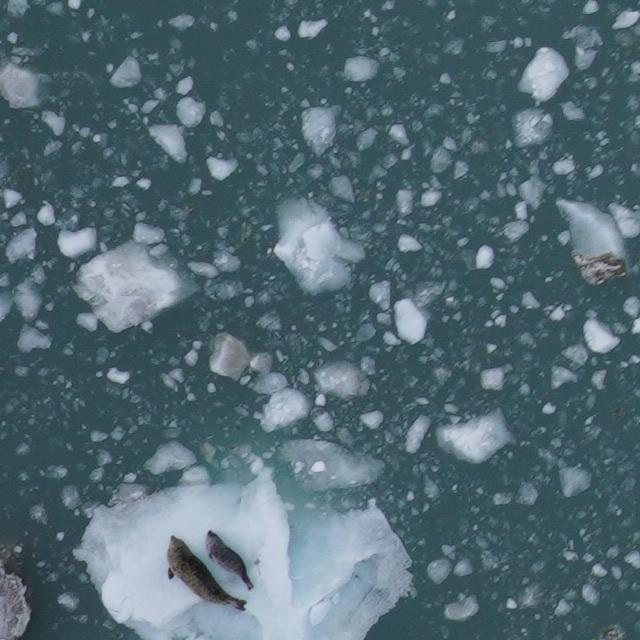seal: (162, 530, 252, 614), (201, 527, 259, 597)
